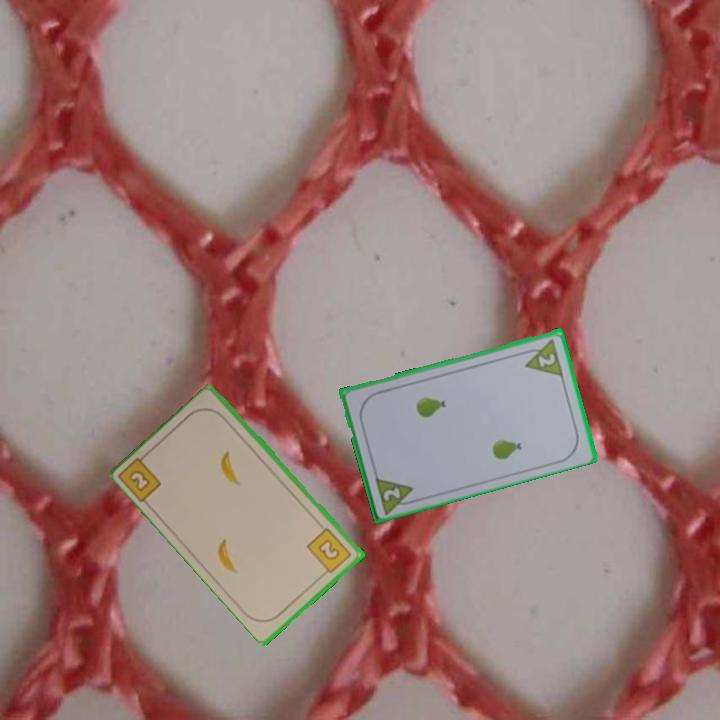2b: (304, 524, 355, 579), (117, 448, 165, 506)
2p: (371, 472, 420, 516), (518, 334, 566, 378)
